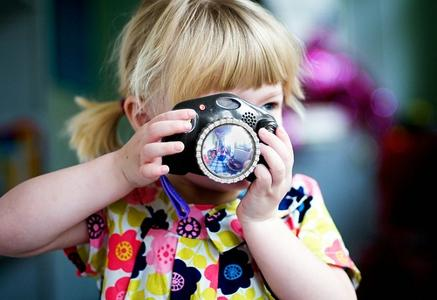person: (1, 1, 361, 300)
